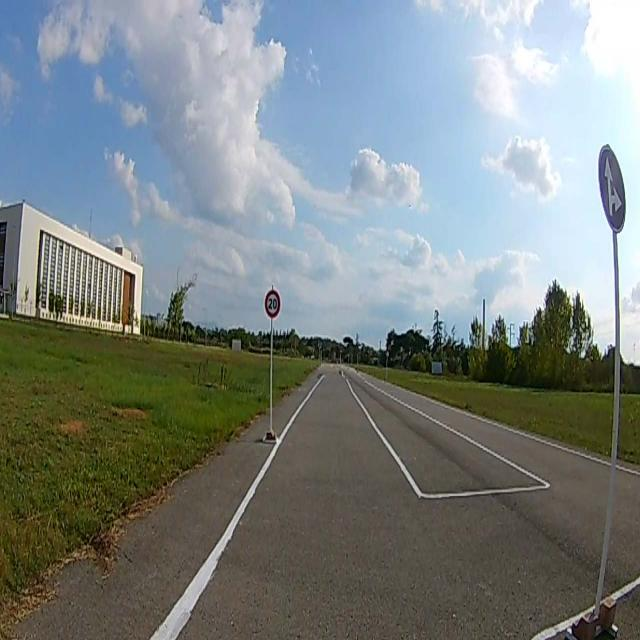20: (266, 289, 280, 318)
ilerisag: (598, 145, 626, 231)
